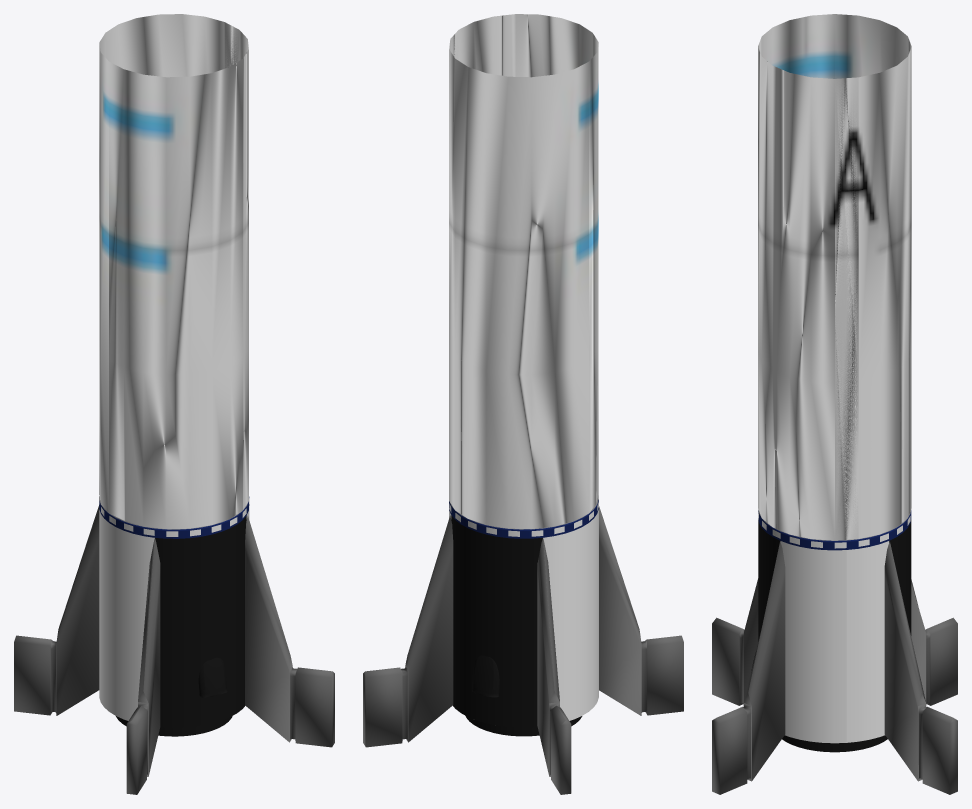
Rendered from JupiterC_Etapa_0.obj.
3 renders of one model, left to right at view 1: azimuth 30°, elevation 25°; view 2: azimuth 150°, elevation 25°; view 3: azimuth 270°, elevation 25°, orthographic. The views are drawn at different scales.
Parts seen in each view (by area): view 1: pCylinder1_6, jupiterc_9_0, jupiterc_8_2, pCube3_jup_2, jupiterc_9_1, jupiterc_7_2, jupiterc_9_4, jupiterc_6_0, jupiterc10_0; view 2: pCylinder1_6, jupiterc_9_0, jupiterc_2_2, jupiterc_9_1, jupiterc_7_2, pCube3_jup_2, jupiterc_9_4, jupiterc_5_0, jupiterc10_0; view 3: pCylinder1_6, jupiterc_9_1, jupiterc_2_2, jupiterc_8_2, jupiterc_7_2, pCube3_jup_2, jupiterc_9_0, jupiterc_9_4, jupiterc10_0.
Boxes of the visible parts, box(x1,y1,x2,y2) form: pCylinder1_6: box(99, 14, 248, 529); jupiterc_9_0: box(155, 516, 246, 727); jupiterc_8_2: box(245, 515, 334, 747); pCube3_jup_2: box(14, 505, 99, 715); jupiterc_9_1: box(99, 498, 249, 720); jupiterc_7_2: box(126, 538, 160, 794); jupiterc_9_4: box(99, 497, 249, 538); jupiterc_6_0: box(198, 657, 227, 697); jupiterc10_0: box(116, 716, 232, 736); pCylinder1_6: box(449, 14, 598, 529); jupiterc_9_0: box(451, 515, 542, 727); jupiterc_2_2: box(363, 515, 453, 747); jupiterc_9_1: box(449, 501, 598, 720); jupiterc_7_2: box(599, 506, 683, 715); pCube3_jup_2: box(537, 538, 571, 794); jupiterc_9_4: box(449, 500, 598, 538); jupiterc_5_0: box(472, 655, 499, 697); jupiterc10_0: box(465, 716, 582, 736); pCylinder1_6: box(758, 14, 911, 540); jupiterc_9_1: box(758, 512, 910, 743); jupiterc_2_2: box(884, 541, 957, 794); jupiterc_8_2: box(712, 541, 785, 794); jupiterc_7_2: box(712, 578, 758, 705); pCube3_jup_2: box(911, 579, 957, 705); jupiterc_9_0: box(758, 520, 911, 641); jupiterc_9_4: box(758, 510, 911, 550); jupiterc10_0: box(782, 735, 887, 752).
Bounding box in the file's own units: 9.65 × 30.16 × 9.65.
